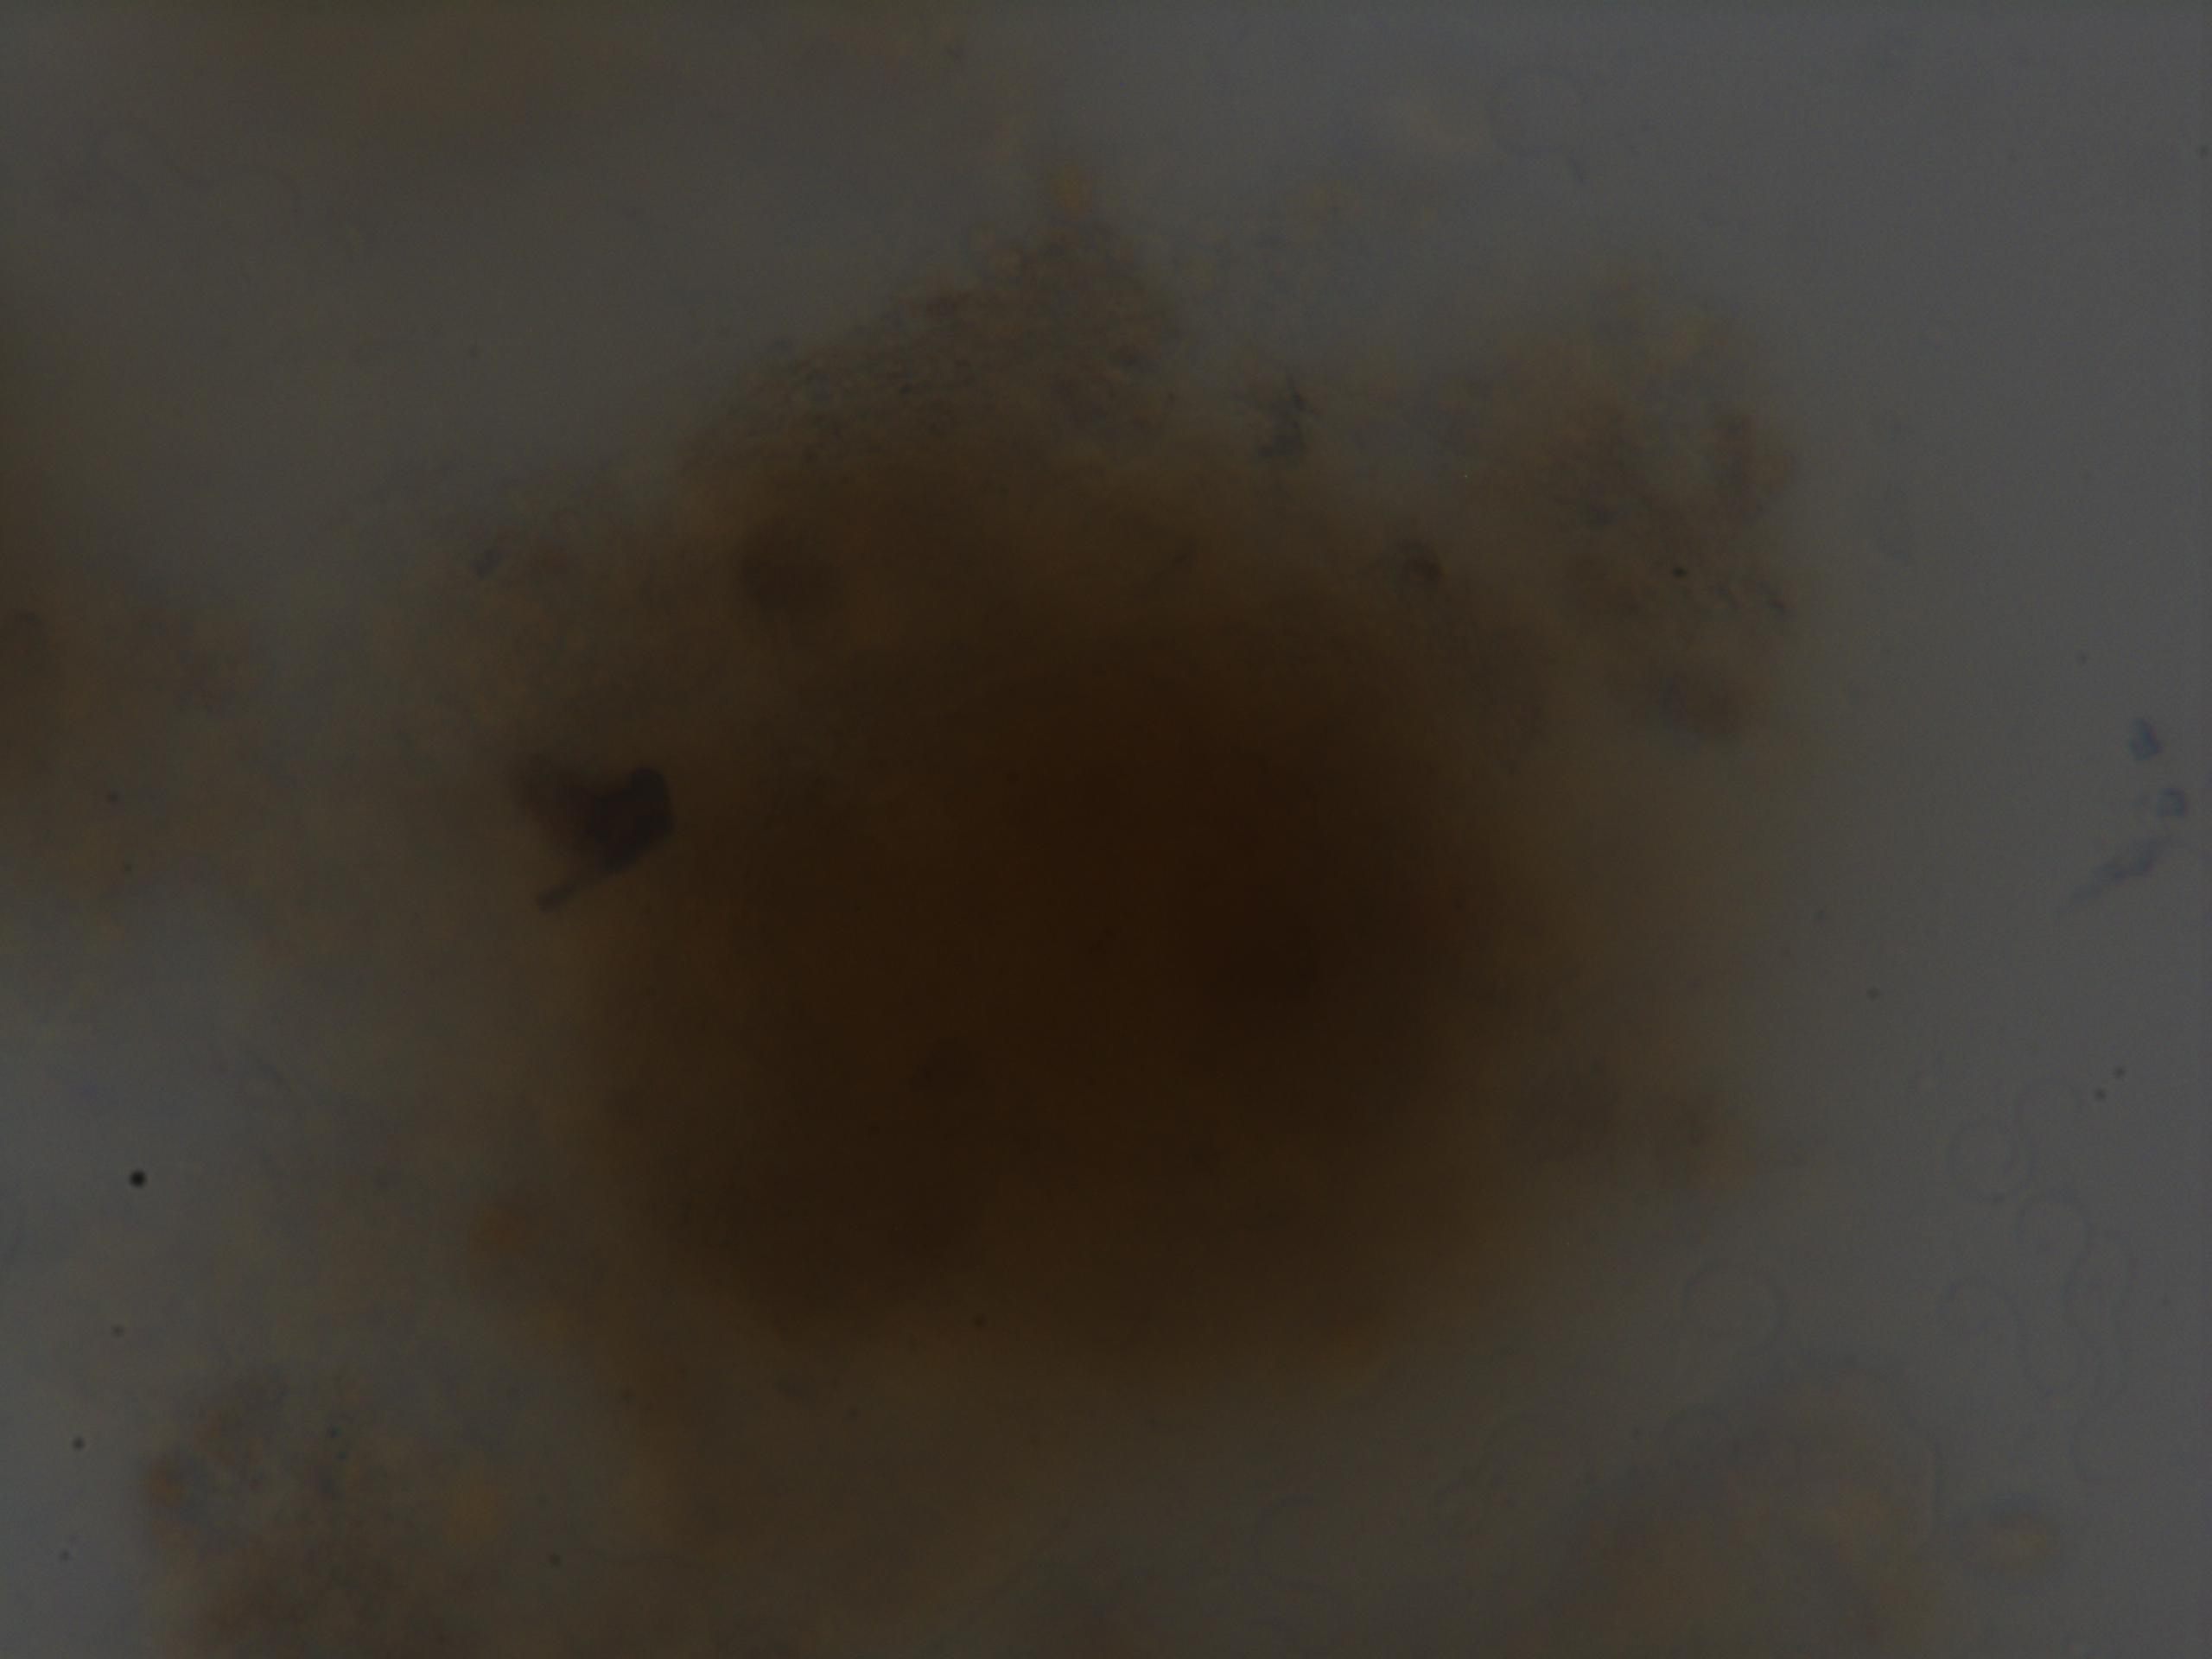spherical_floc: (418, 326, 1717, 1439)
